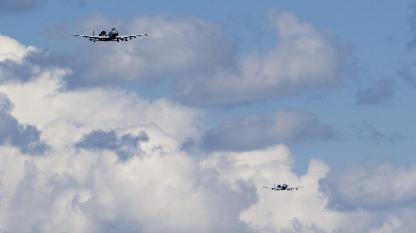A10: (73, 27, 147, 42), (262, 183, 304, 190)
